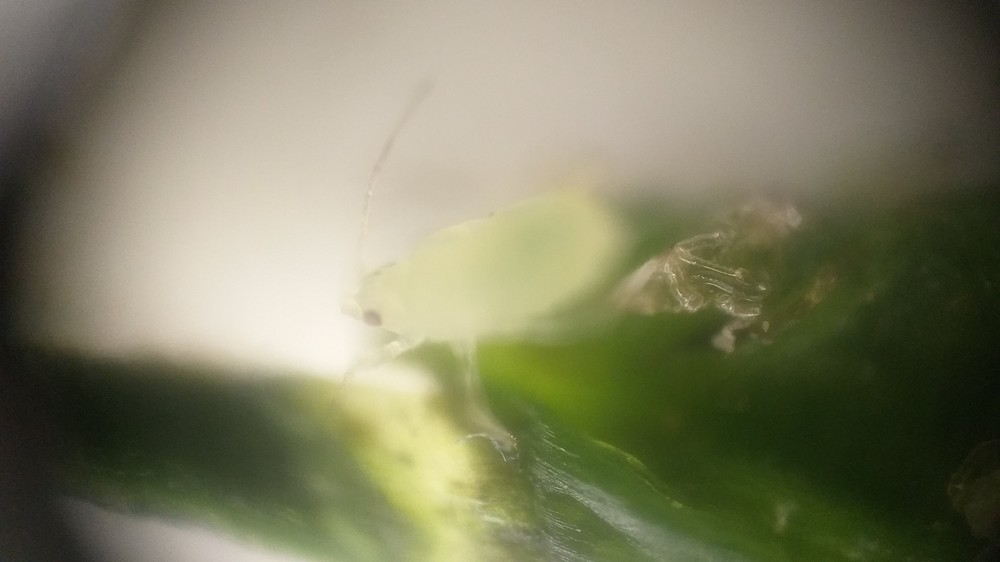Pulgon: (309, 103, 716, 437)
